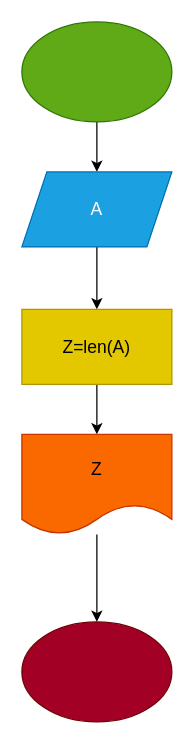
This 194x744 diagram has some shape labels left out. Each missing label, with the centre of its shape:
FIN: (x=96, y=671)
INICIO: (x=96, y=71)
